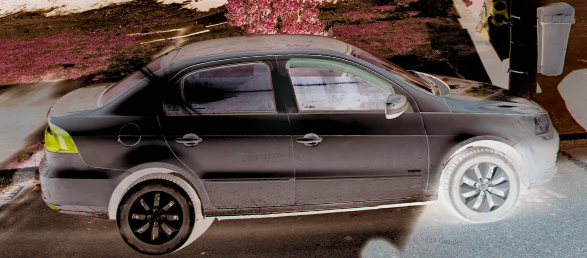car: (39, 34, 561, 257)
